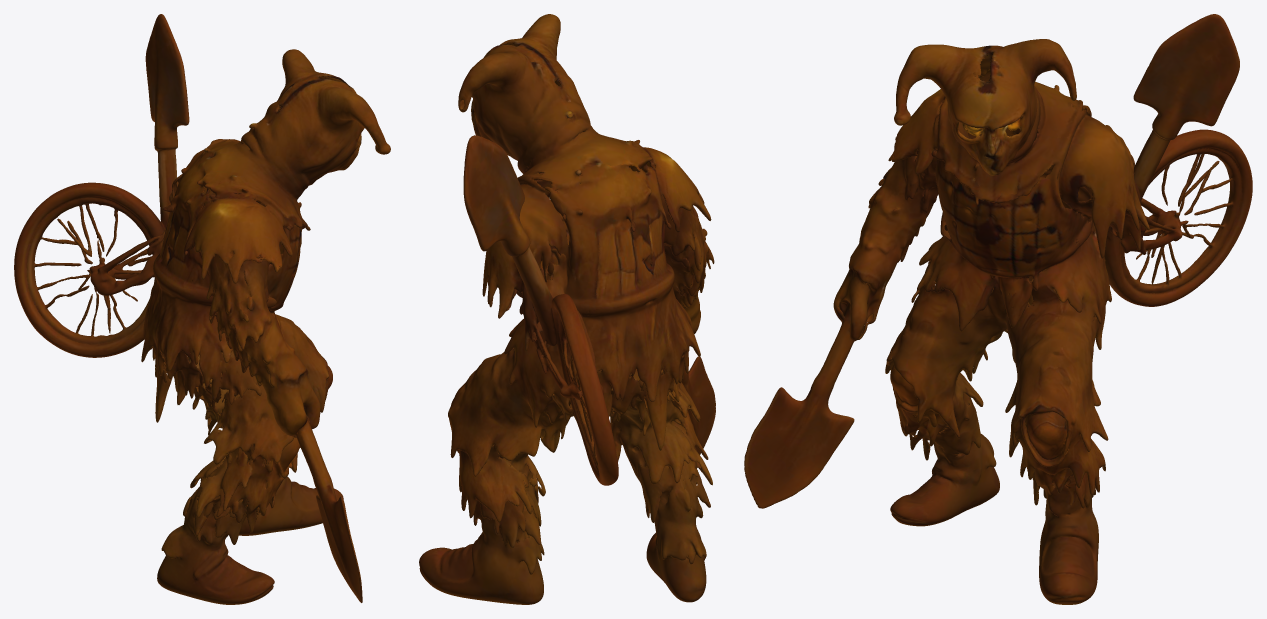
3 renders of one model, left to right at view 1: azimuth 30°, elevation 25°; view 2: azimuth 150°, elevation 25°; view 3: azimuth 270°, elevation 25°, orthographic. The views are drawn at different scales.
Visible parts, largest first — view 1: tripo_node_268d09b5-140c-4fc3-bb8a-2ea443e8de82; view 2: tripo_node_268d09b5-140c-4fc3-bb8a-2ea443e8de82; view 3: tripo_node_268d09b5-140c-4fc3-bb8a-2ea443e8de82.
Boxes of the visible parts, left/top/right/bottom form: tripo_node_268d09b5-140c-4fc3-bb8a-2ea443e8de82: left=14, top=14, right=390, bottom=604; tripo_node_268d09b5-140c-4fc3-bb8a-2ea443e8de82: left=419, top=14, right=715, bottom=604; tripo_node_268d09b5-140c-4fc3-bb8a-2ea443e8de82: left=744, top=14, right=1252, bottom=604.
Bounding box in the file's own units: 0.5422 × 1 × 0.8466.
1 material, 1 textured.
